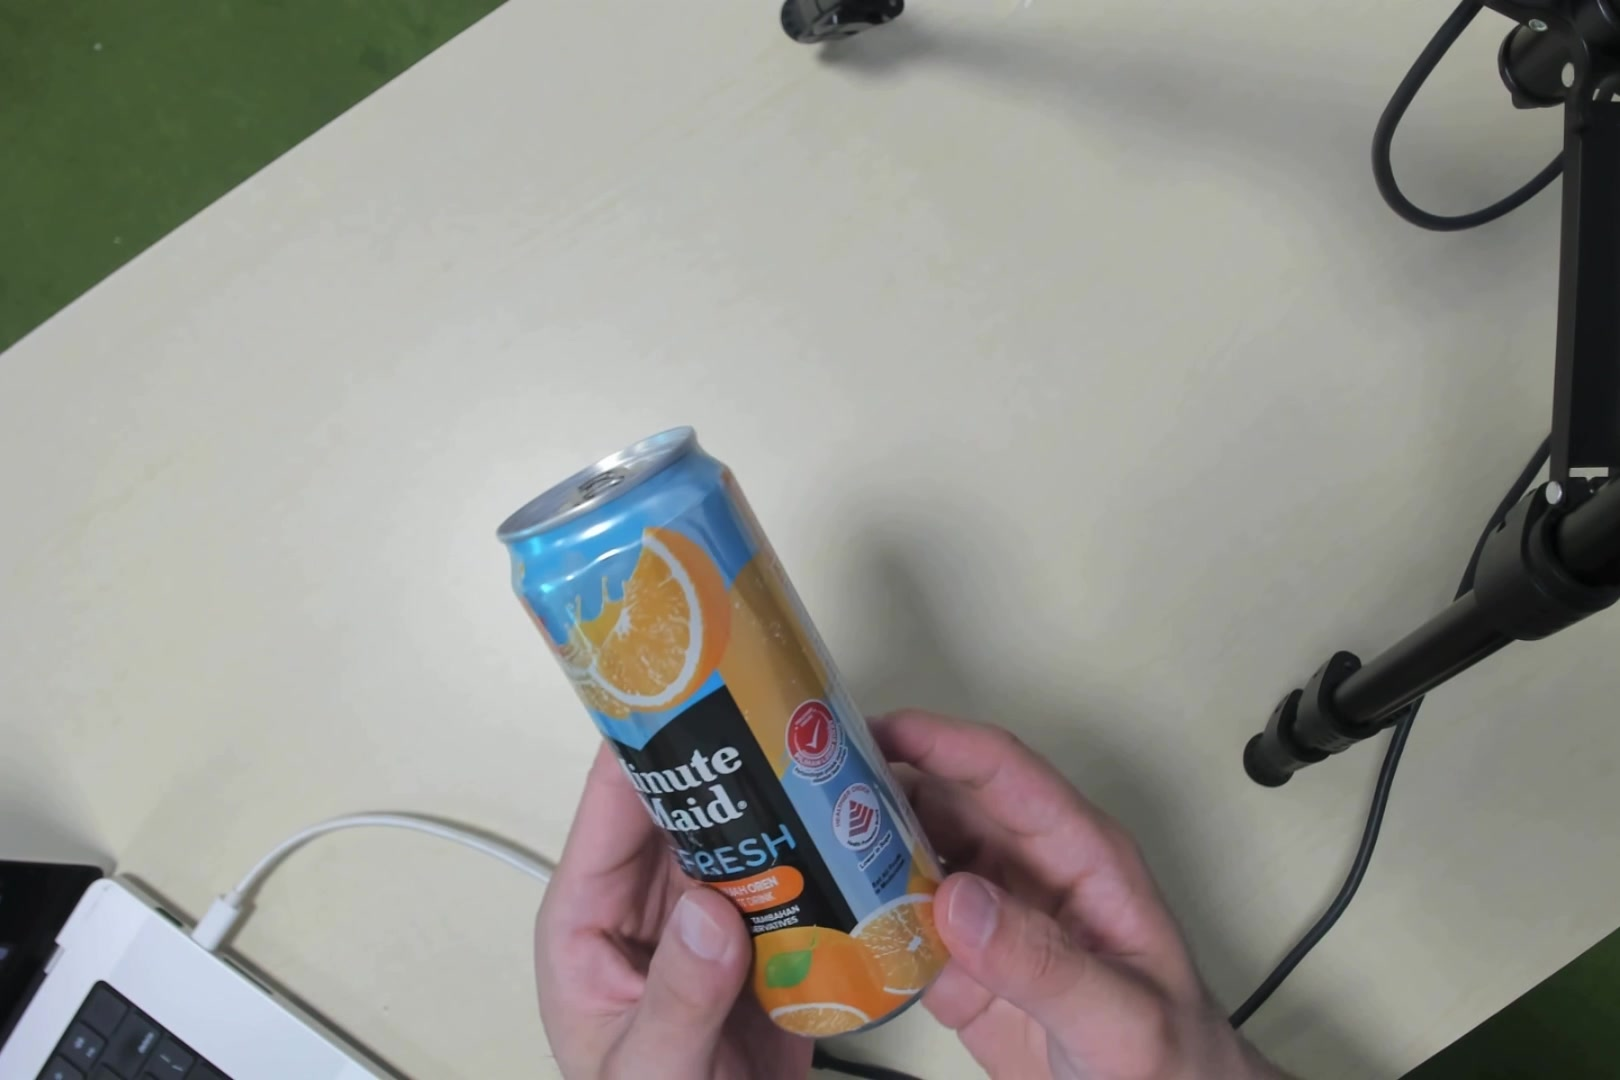SoftDrinks_200-299g_Halal_Healthy: (532, 422, 978, 1019)
